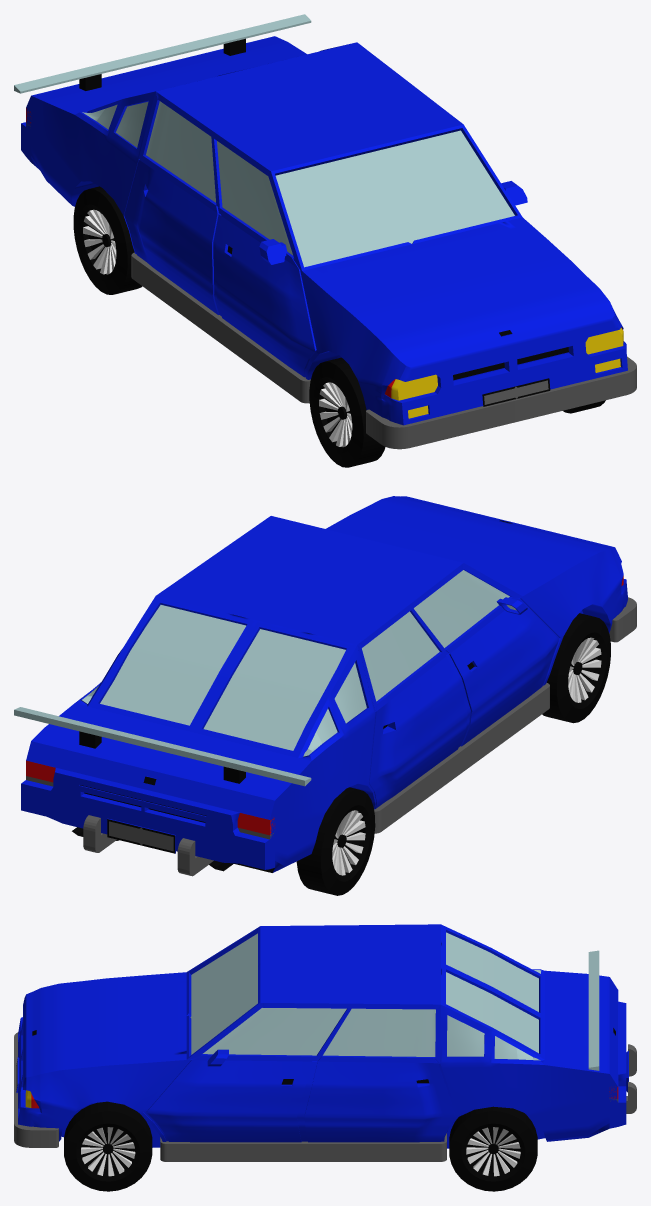
Rendered from Car01.fbx.
3 views of the same model, one above another, from view 1: azimuth 30°, elevation 25°; view 2: azimuth 150°, elevation 25°; view 3: azimuth 270°, elevation 25° (orthographic). The views are drawn at different scales.
Parts seen in each view (by area): view 1: CarBody, FrontWheel1, RearWheel1; view 2: CarBody, RearWheel1, FrontWheel1; view 3: CarBody, FrontWheel2, RearWheel2.
Part boxes in pixels (x1,y1,x2,y2): CarBody: (14,14,636,449); FrontWheel1: (309,357,385,467); RearWheel1: (73,186,142,294); CarBody: (14,496,636,876); RearWheel1: (296,787,375,895); FrontWheel1: (542,613,610,723); CarBody: (14,924,636,1161); FrontWheel2: (64,1101,152,1191); RearWheel2: (449,1106,537,1191).
Bounding box in the file's own units: 802 × 574 × 1822.
